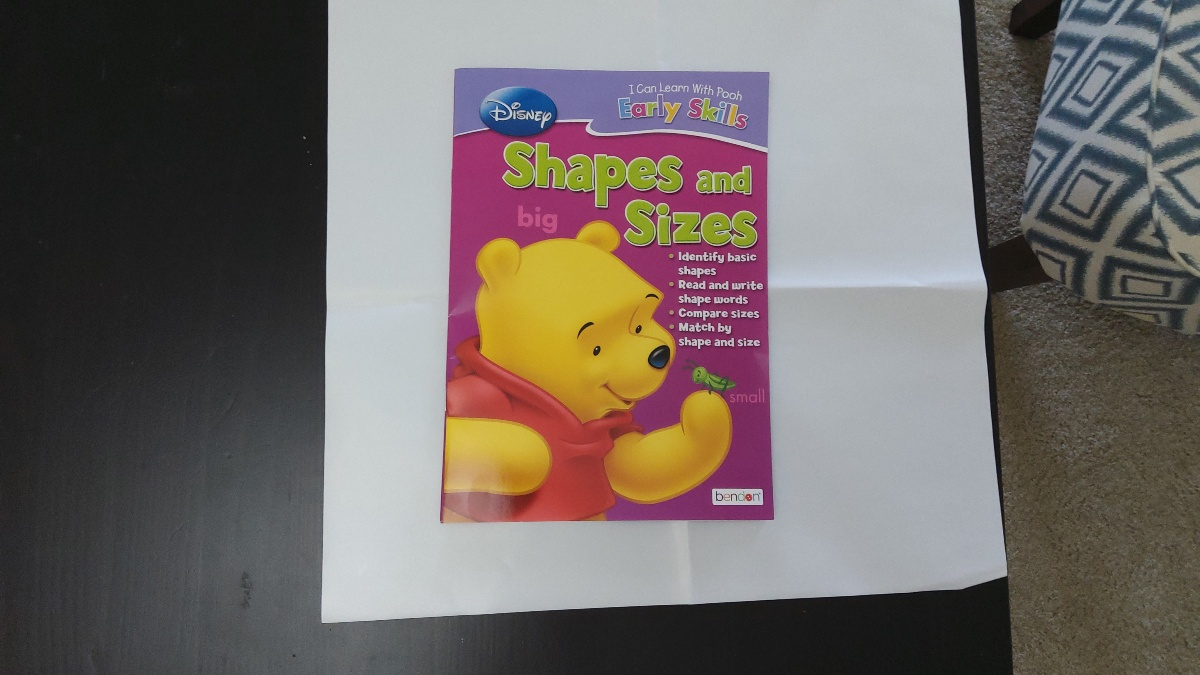book: (455, 69, 771, 520)
